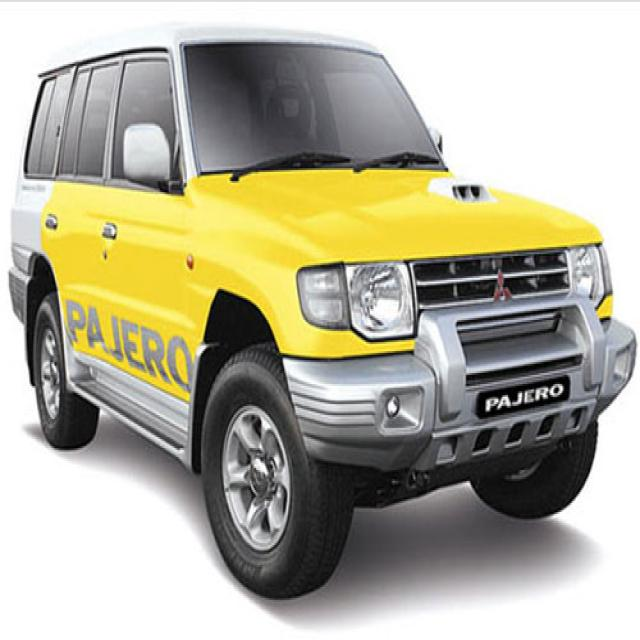light_vehicle: (7, 21, 638, 601)
